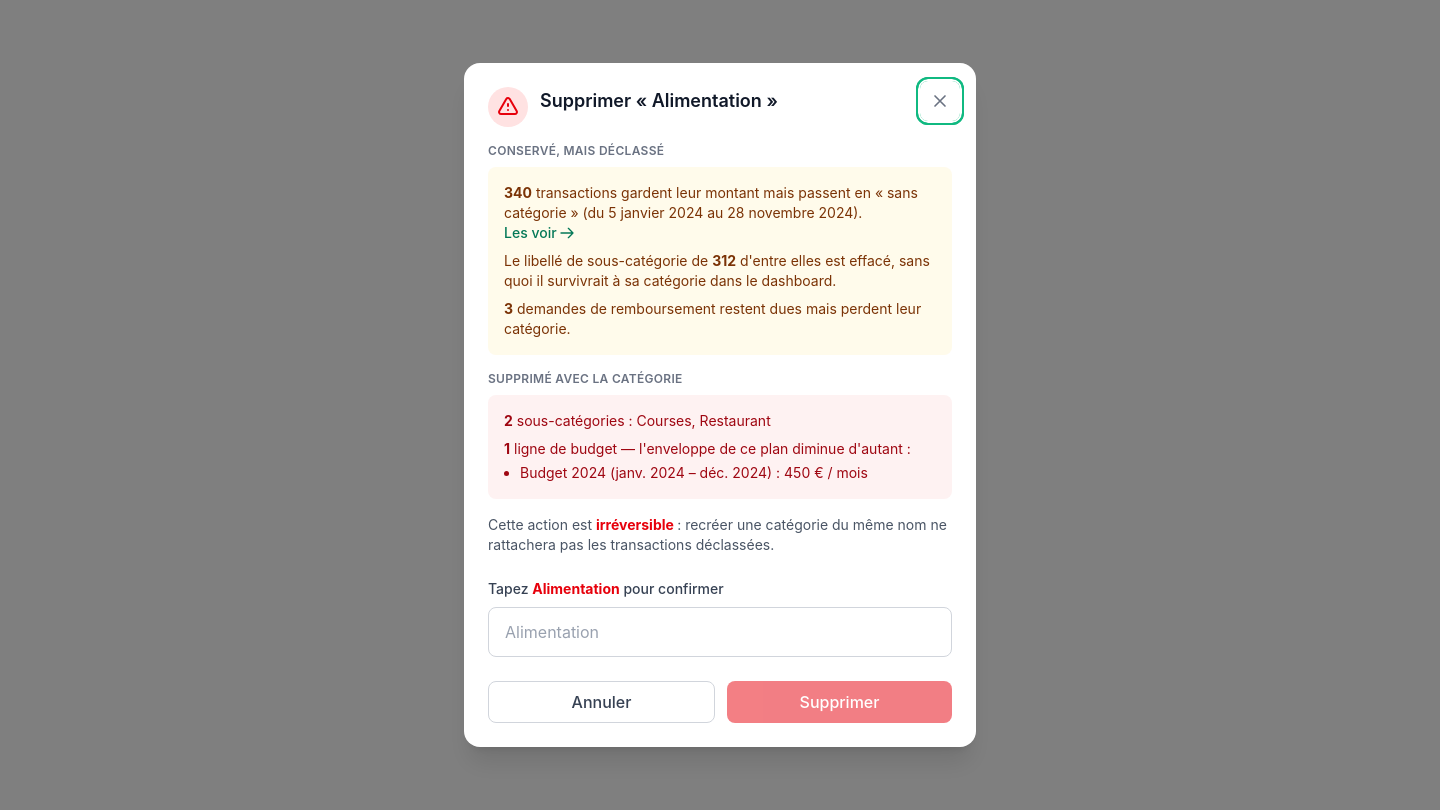
Test: DeleteCategoryModal › accepts the typed name regardless of case and spacing
Type "  alimentation " into the field with test id "delete-category-confirmation" at (720, 632), box [488,607,952,657]
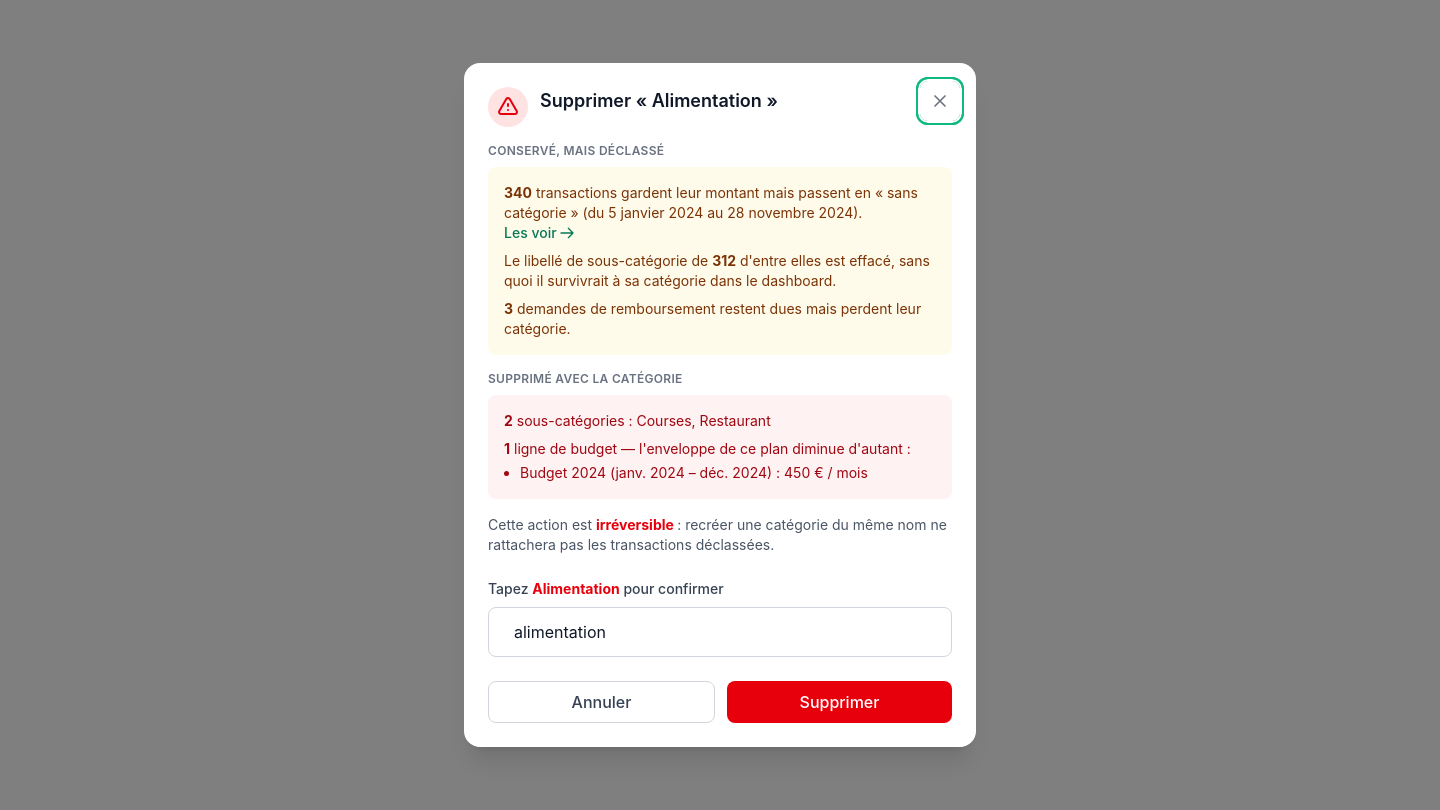
Now the button with test id "delete-category-confirm" is enabled, box [727,681,952,723]
